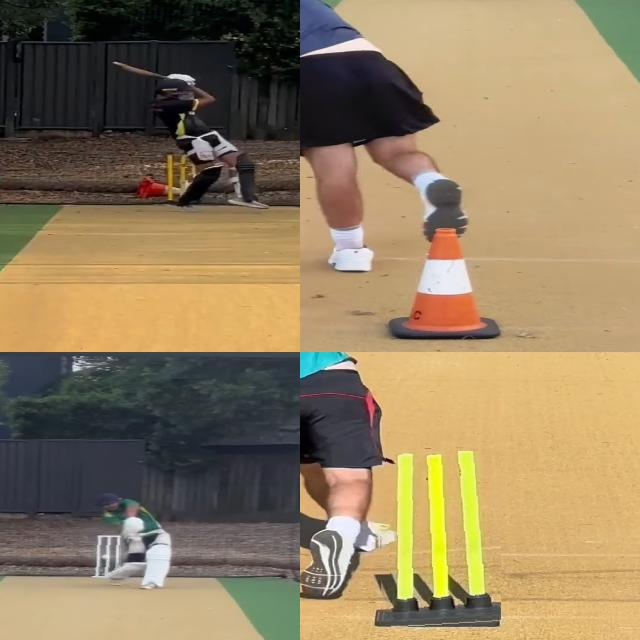Cricket ball: (102, 552, 115, 560)
Stumps: (377, 451, 501, 628), (93, 533, 121, 580)
